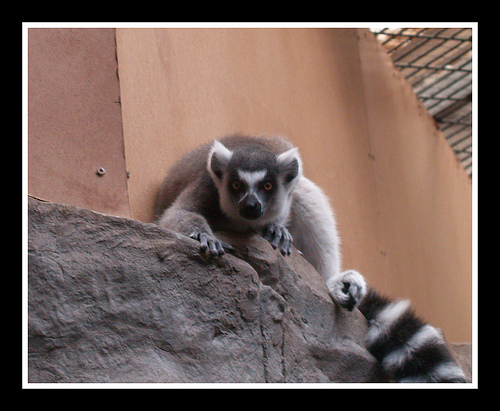cat: (150, 131, 469, 383)
